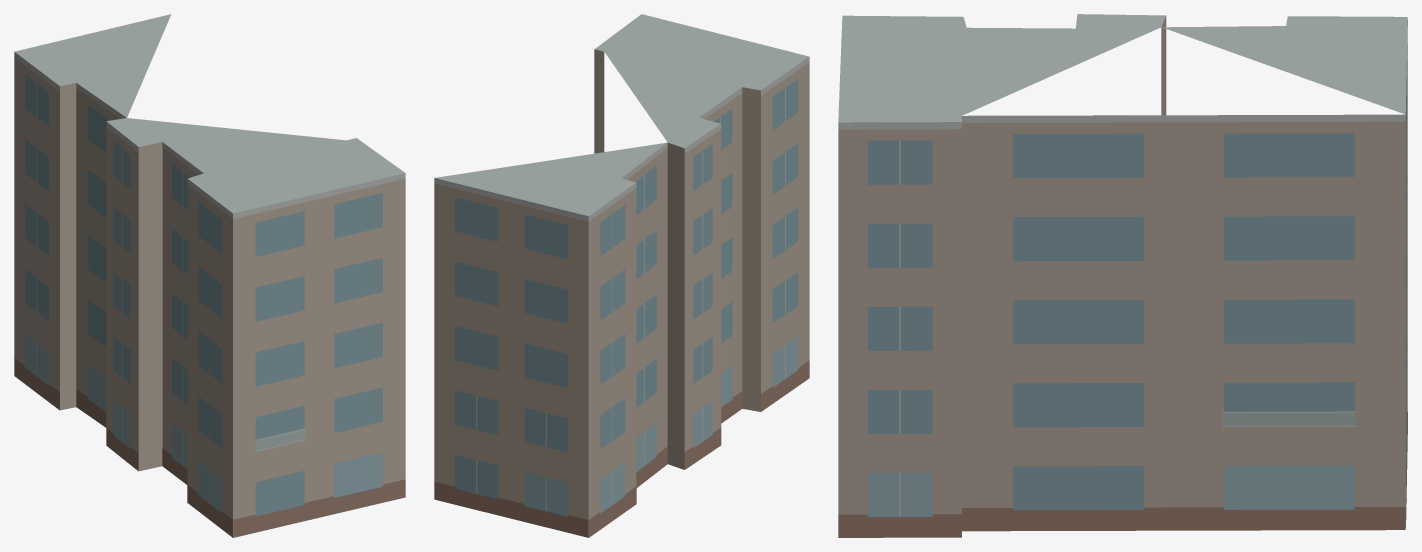
File: survey-upis-32874550.glb
The picture shows the model from 3 angles, left to right: view 1: azimuth 30°, elevation 25°; view 2: azimuth 150°, elevation 25°; view 3: azimuth 270°, elevation 25°; orthographic projection. The views are drawn at different scales.
Visible parts, largest first — view 1: survey-upis-32874550.tmp; view 2: survey-upis-32874550.tmp; view 3: survey-upis-32874550.tmp.
Part boxes in pixels (bbox=[...]): survey-upis-32874550.tmp: bbox=[14, 14, 405, 537]; survey-upis-32874550.tmp: bbox=[434, 14, 809, 537]; survey-upis-32874550.tmp: bbox=[838, 14, 1407, 537].
Bounding box in the file's own units: 8.02 × 14.3 × 17.78.
